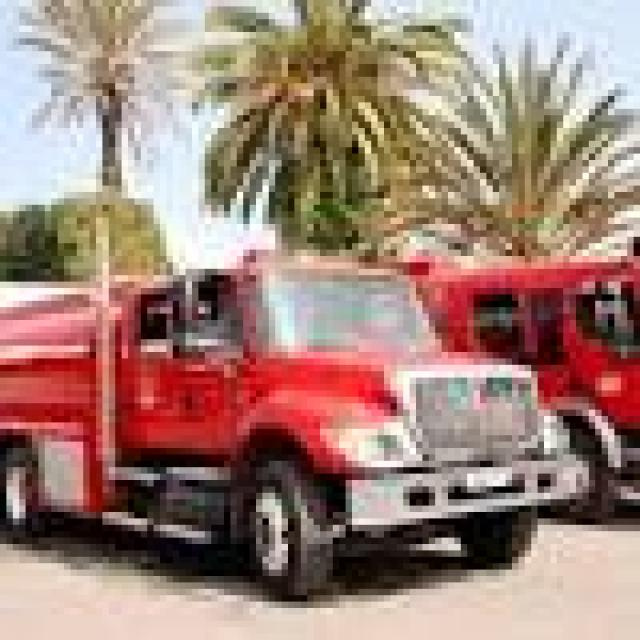pompier: (8, 256, 558, 594)
